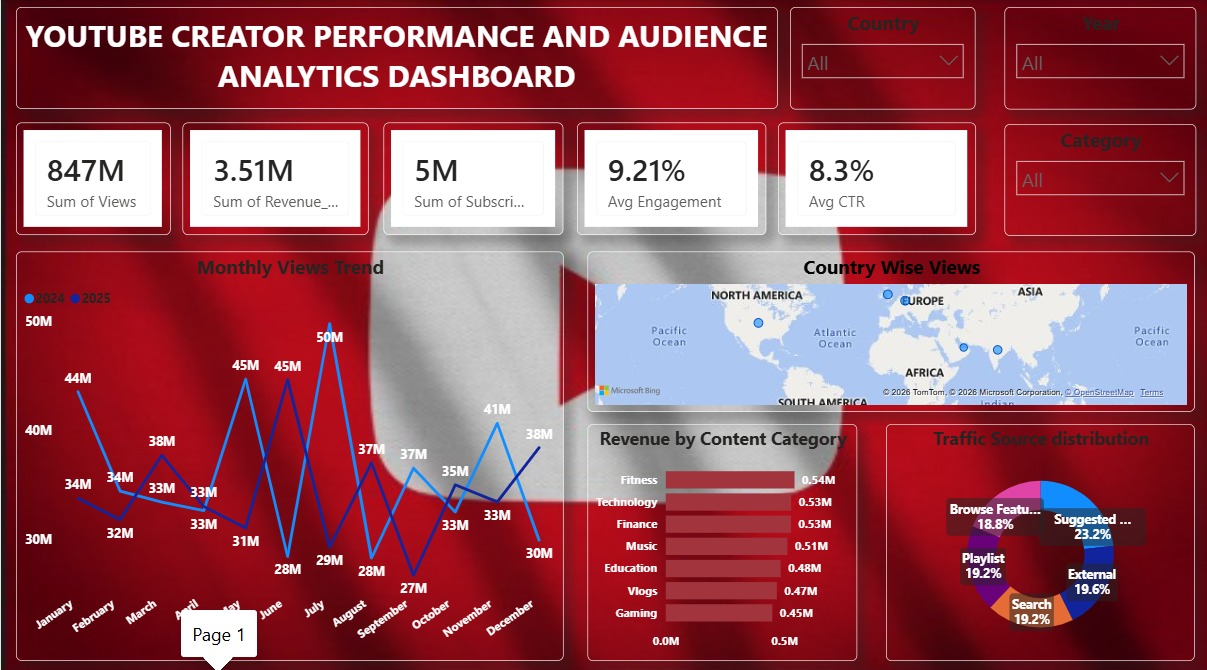

What the dashboard file says about the page in this screenshot:
{"tool":"powerbi","page":{"name":"Page 1","canvas":[1280,720],"ordinal":0},"visuals":[{"type":"donutChart","title":" Traffic Source distribution","fields":{"Category":["YouTube_Analytics.Traffic_Source"],"Y":["Sum(YouTube_Analytics.Subscribers_Gained)"]},"box":[938.5,451.7,327.7,251.3],"z":0},{"type":"textbox","box":[15.9,9.5,808,108.2],"z":1000},{"type":"cardVisual","fields":{"Data":["Sum(YouTube_Analytics.Views)"]},"box":[15.9,132,163.8,119.3],"z":2000},{"type":"cardVisual","fields":{"Data":["Sum(YouTube_Analytics.Revenue_USD)"]},"box":[192.5,132,197.2,119.3],"z":3000},{"type":"cardVisual","fields":{"Data":["Sum(YouTube_Analytics.Subscribers_Gained)"]},"box":[405.6,132,190.9,119.3],"z":4000},{"type":"cardVisual","fields":{"Data":["YouTube_Analytics.Avg Engagement"]},"box":[610.8,132,200.4,119.3],"z":5000},{"type":"cardVisual","fields":{"Data":["YouTube_Analytics.Avg CTR"]},"box":[823.9,132,210,119.3],"z":6000},{"type":"lineChart","title":"Monthly Views Trend","fields":{"Y":["Sum(YouTube_Analytics.Views)"],"Category":["YouTube_Analytics.Upload_Date.Variation.Date Hierarchy.Month"],"Series":["YouTube_Analytics.Upload_Date.Variation.Date Hierarchy.Year"]},"box":[15.9,268.8,580.6,434.2],"z":7000},{"type":"barChart","title":" Revenue by Content Category","fields":{"Y":["Sum(YouTube_Analytics.Revenue_USD)"],"Category":["YouTube_Analytics.Category"]},"box":[621.9,451.7,286.3,251.3],"z":8000},{"type":"map","title":"Country Wise Views","fields":{"Category":["YouTube_Analytics.Country"],"Size":["Sum(YouTube_Analytics.Views)"]},"box":[621.9,268.8,644.2,170.2],"z":9000},{"type":"slicer","title":"Category","fields":{"Values":["YouTube_Analytics.Category"]},"box":[1063.3,133.3,203.3,118.3],"z":10000},{"type":"slicer","title":"Year","fields":{"Values":["YouTube_Analytics.Year"]},"box":[1063.3,10,203.3,108.3],"z":11000},{"type":"slicer","title":"Country","fields":{"Values":["YouTube_Analytics.Country"]},"box":[836.7,10,196.7,108.3],"z":12000}]}

Visuals, with their boxes in screenshot pixels (x1, y1, x2, y2), scaled from the page's 1280x720 canvas onto the 1207x670 screenshot:
" Traffic Source distribution" donutChart: <bbox>885, 420, 1194, 654</bbox>
textbox: <bbox>15, 9, 777, 110</bbox>
cardVisual - Sum(YouTube_Analytics.Views): <bbox>15, 123, 169, 234</bbox>
cardVisual - Sum(YouTube_Analytics.Revenue_USD): <bbox>182, 123, 367, 234</bbox>
cardVisual - Sum(YouTube_Analytics.Subscribers_Gained): <bbox>382, 123, 562, 234</bbox>
cardVisual - YouTube_Analytics.Avg Engagement: <bbox>576, 123, 765, 234</bbox>
cardVisual - YouTube_Analytics.Avg CTR: <bbox>777, 123, 975, 234</bbox>
"Monthly Views Trend" lineChart: <bbox>15, 250, 562, 654</bbox>
" Revenue by Content Category" barChart: <bbox>586, 420, 856, 654</bbox>
"Country Wise Views" map: <bbox>586, 250, 1194, 409</bbox>
"Category" slicer: <bbox>1003, 124, 1194, 234</bbox>
"Year" slicer: <bbox>1003, 9, 1194, 110</bbox>
"Country" slicer: <bbox>789, 9, 974, 110</bbox>
